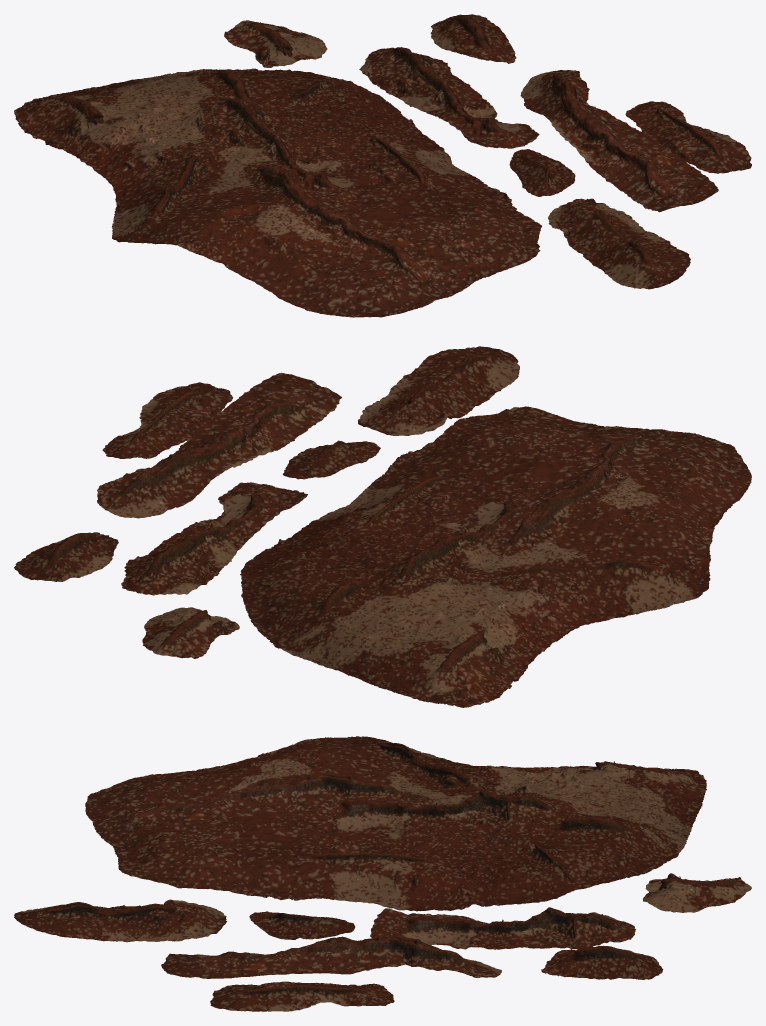
Rendered from root_cluster_02.glb.
The picture shows the model from 3 angles, top to bottom: view 1: azimuth 30°, elevation 25°; view 2: azimuth 150°, elevation 25°; view 3: azimuth 270°, elevation 25°; orthographic projection. The views are drawn at different scales.
Parts seen in each view (by area): view 1: root_cluster_02_d; view 2: root_cluster_02_d; view 3: root_cluster_02_d.
Boxes of the visible parts, <box> form: root_cluster_02_d: <box>14,14,751,317</box>; root_cluster_02_d: <box>14,346,751,707</box>; root_cluster_02_d: <box>14,736,751,1011</box>.
Size of the model in its own units: 2.38 by 0.1987 by 2.71.
Materials: 1 (1 with a texture image).
